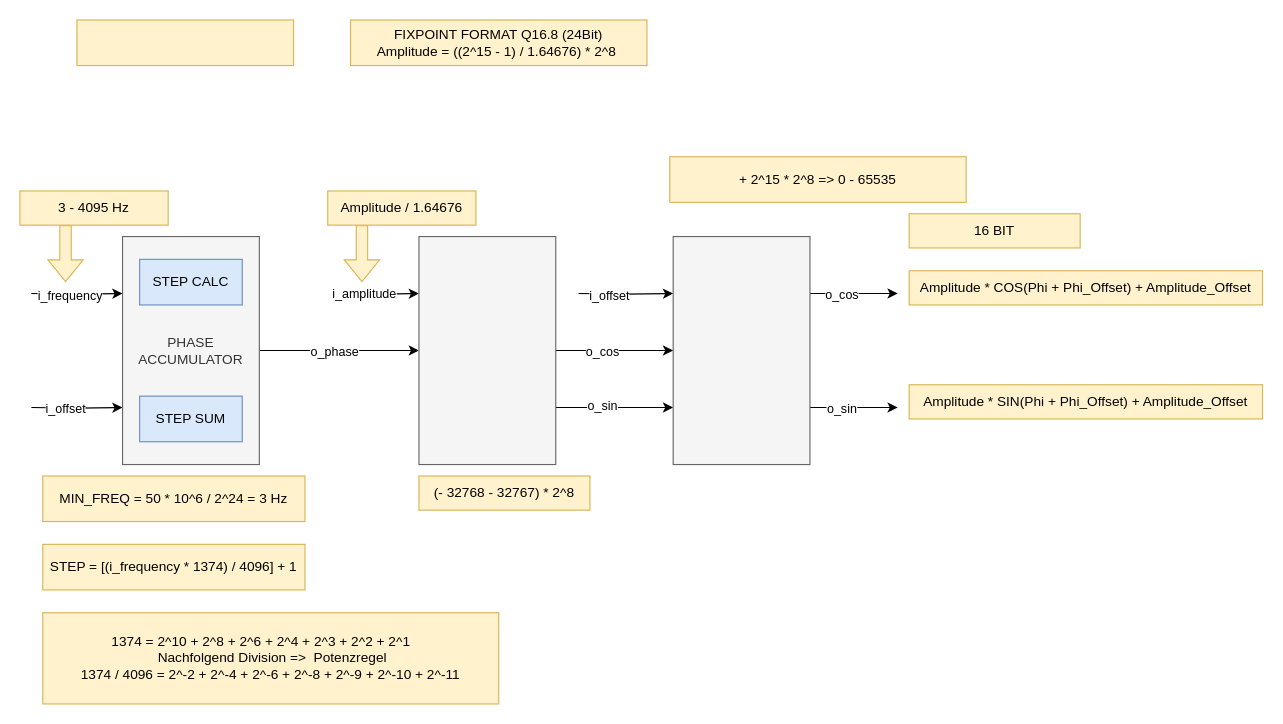
The diagram is 1283 pixels wide and 724 high, and some of its shapes have lost their labels. Each missing label, with the box of its shape:
CORDIC: (418, 235, 556, 465)
OFFSET: (672, 235, 810, 465)
Phase => 0 - 2PI = 0 - 2^24: (76, 19, 294, 66)
